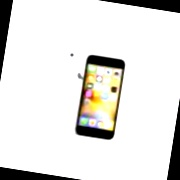iphone: (82, 55, 121, 137)
